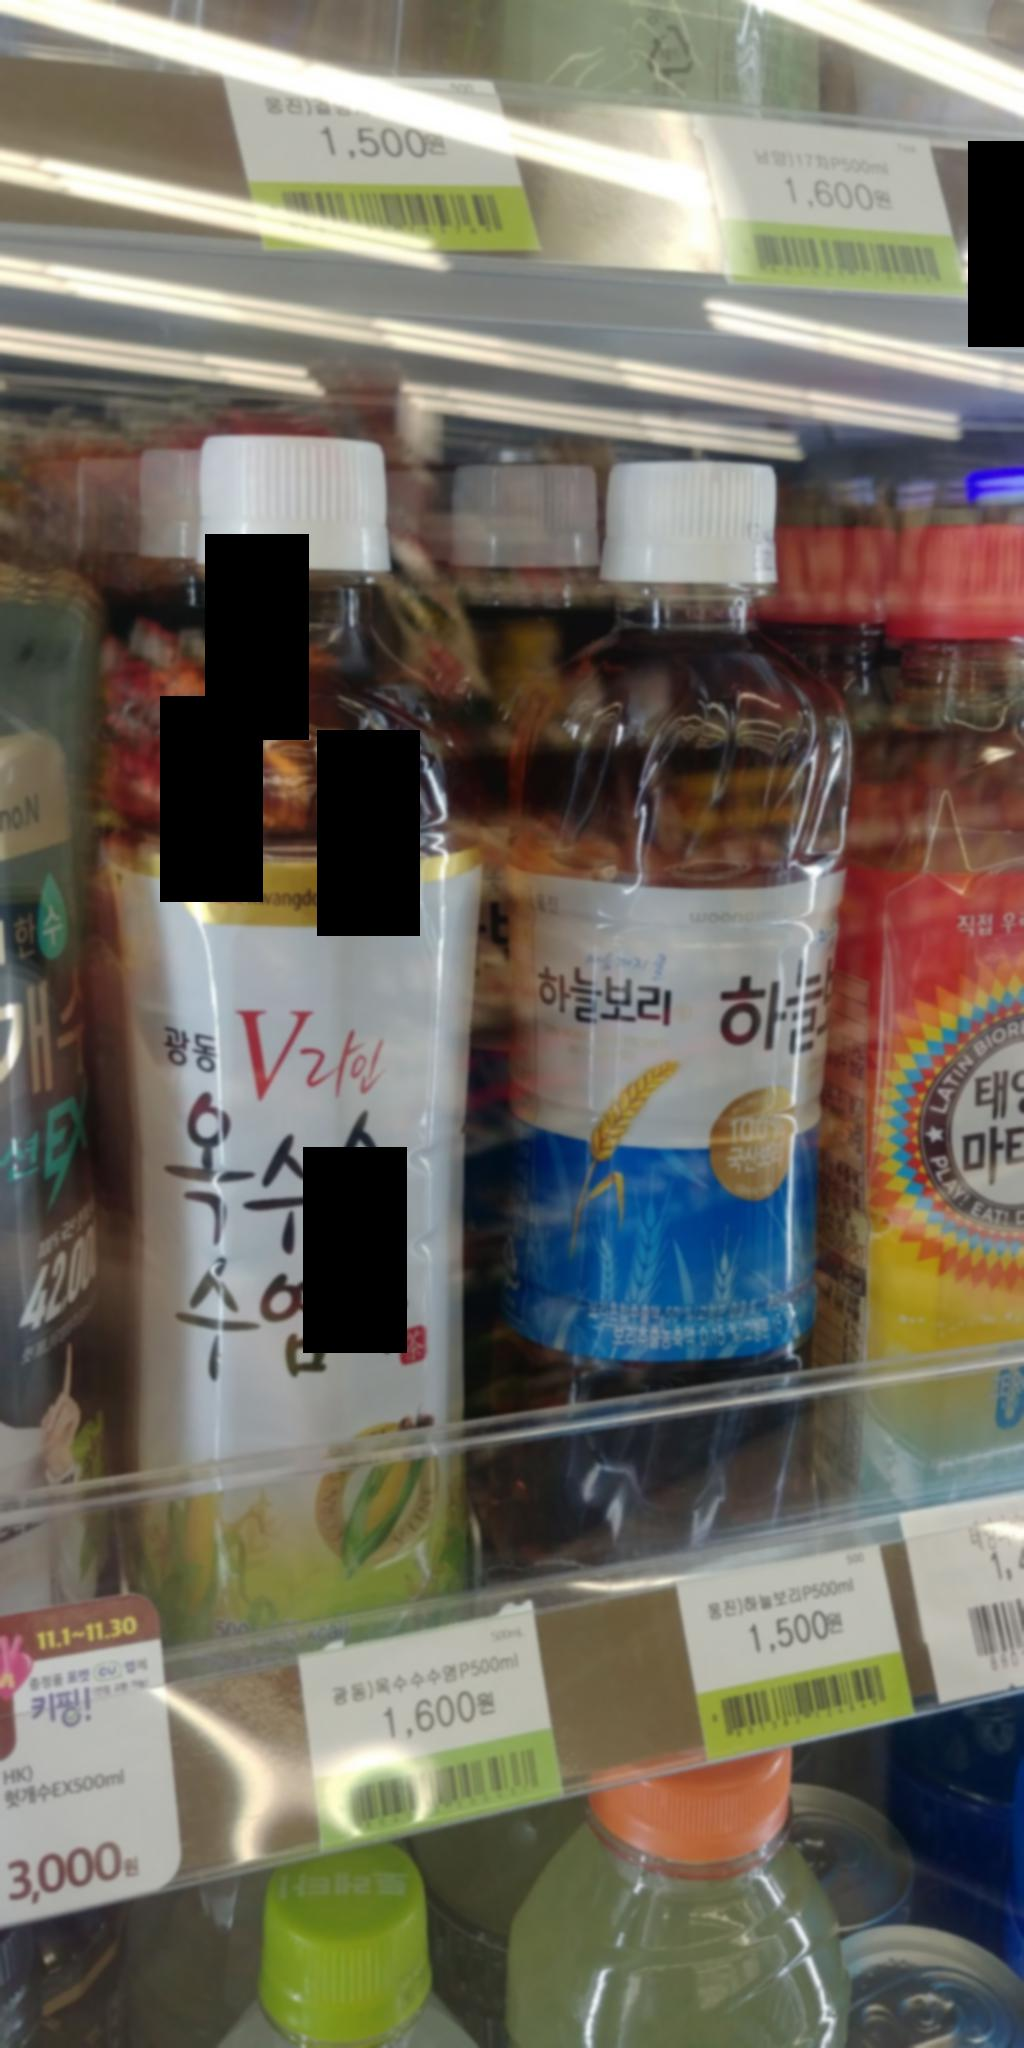haneulbori: (451, 460, 869, 1592)
oksususuyeomcha: (69, 435, 477, 1654)
